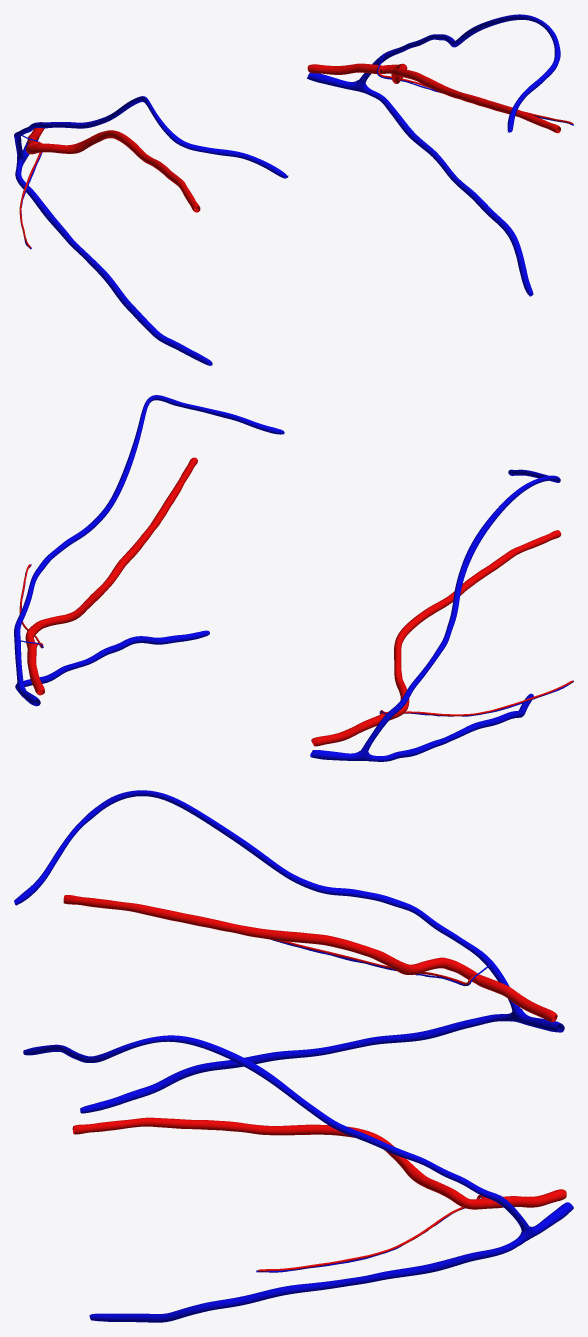
File: VH_F_Blood_Vasculature_Eye.fbx
3 views of the same model, one above another, from view 1: azimuth 30°, elevation 25°; view 2: azimuth 150°, elevation 25°; view 3: azimuth 270°, elevation 25° (orthographic). The views are drawn at different scales.
Parts seen in each view (by area): view 1: VH_F_opthalmic_artery_L, VH_F_inferior_ophthalmic_vein_R, VH_F_superior_ophthalmic_vein_R, VH_F_superior_ophthalmic_vein_L, VH_F_opthalmic_artery_R, VH_F_inferior_ophthalmic_vein_L, VH_F_ophthalmic_vein_L; view 2: VH_F_superior_ophthalmic_vein_L, VH_F_opthalmic_artery_R, VH_F_opthalmic_artery_L, VH_F_superior_ophthalmic_vein_R, VH_F_inferior_ophthalmic_vein_L, VH_F_inferior_ophthalmic_vein_R, VH_F_ophthalmic_vein_R; view 3: VH_F_opthalmic_artery_R, VH_F_opthalmic_artery_L, VH_F_superior_ophthalmic_vein_R, VH_F_superior_ophthalmic_vein_L, VH_F_inferior_ophthalmic_vein_L, VH_F_inferior_ophthalmic_vein_R, VH_F_ophthalmic_vein_L.
Part boxes in pixels (x1,y1,x2,y2): VH_F_opthalmic_artery_L: [307, 63, 560, 132]; VH_F_inferior_ophthalmic_vein_R: [15, 165, 212, 365]; VH_F_superior_ophthalmic_vein_R: [14, 96, 288, 178]; VH_F_superior_ophthalmic_vein_L: [357, 14, 560, 132]; VH_F_opthalmic_artery_R: [25, 122, 200, 212]; VH_F_inferior_ophthalmic_vein_L: [365, 89, 533, 296]; VH_F_ophthalmic_vein_L: [307, 72, 369, 93]; VH_F_superior_ophthalmic_vein_L: [14, 395, 284, 684]; VH_F_opthalmic_artery_R: [311, 530, 561, 746]; VH_F_opthalmic_artery_L: [25, 457, 197, 694]; VH_F_superior_ophthalmic_vein_R: [360, 469, 560, 752]; VH_F_inferior_ophthalmic_vein_L: [15, 630, 209, 688]; VH_F_inferior_ophthalmic_vein_R: [372, 693, 533, 761]; VH_F_ophthalmic_vein_R: [310, 750, 373, 761]; VH_F_opthalmic_artery_R: [63, 895, 557, 1021]; VH_F_opthalmic_artery_L: [73, 1117, 566, 1209]; VH_F_superior_ophthalmic_vein_R: [14, 790, 521, 1013]; VH_F_superior_ophthalmic_vein_L: [23, 1035, 530, 1231]; VH_F_inferior_ophthalmic_vein_L: [89, 1238, 520, 1322]; VH_F_inferior_ophthalmic_vein_R: [80, 1013, 510, 1113]; VH_F_ophthalmic_vein_L: [518, 1202, 573, 1244].
Size of the model in its own units: 7.57 by 3.48 by 5.54.
